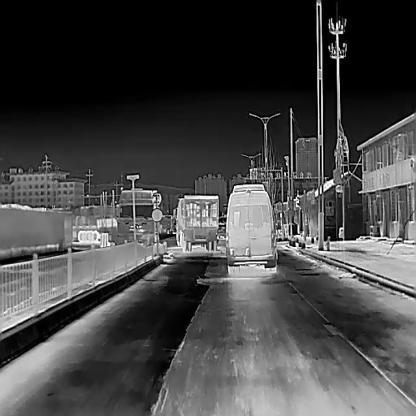car: (225, 181, 275, 268), (175, 194, 218, 250), (116, 190, 157, 247)
